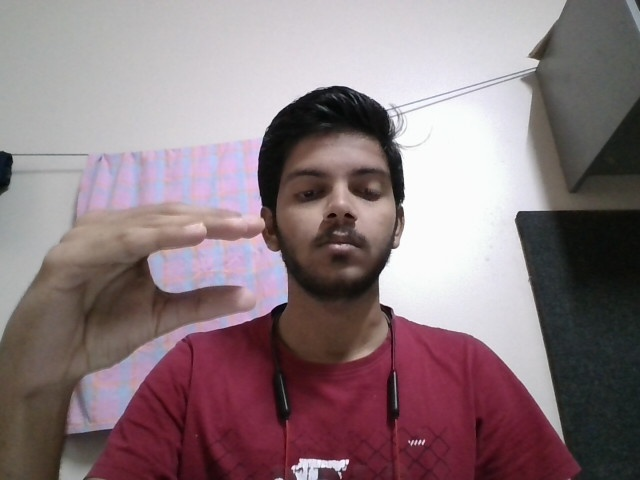Yes: (9, 196, 269, 373)
